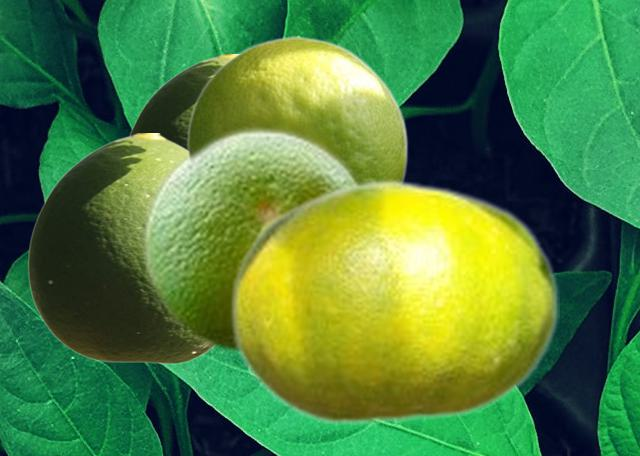dalandan: (229, 178, 558, 426), (139, 123, 362, 353), (27, 133, 210, 363), (186, 35, 407, 179), (129, 54, 233, 146)
